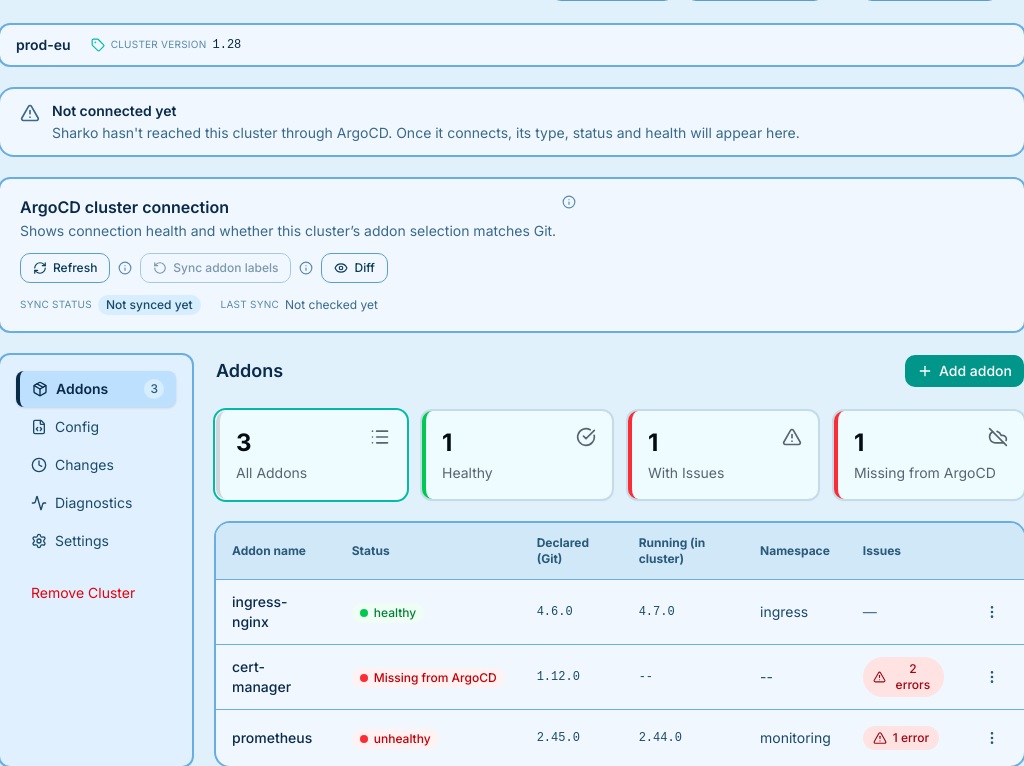
it: ClusterDetail › LW-20: issues appear in popover when clicking the error chip
(page scrolled)
Expected: the link "cert-manager" is shown, x1=232 y1=658 x2=291 y2=695
Click the chip to open the popover
Click the button "2 errors": (903, 677) x1=863 y1=657 x2=944 y2=697
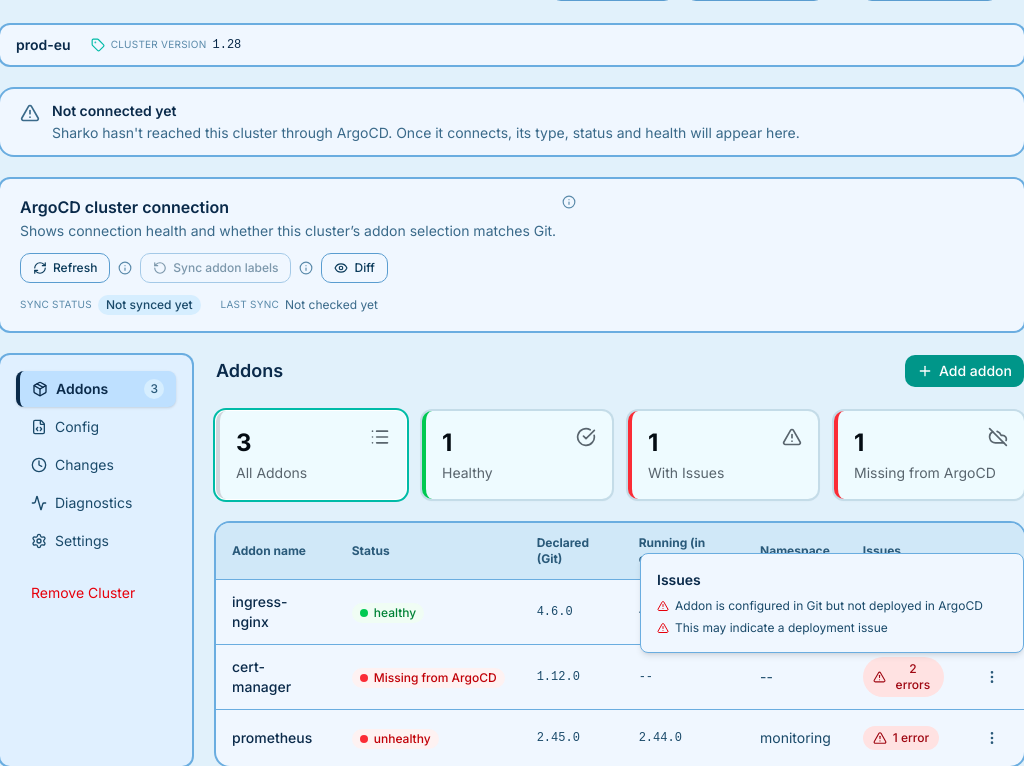
Now the text "Addon is configured in Git but not deployed in ArgoCD" is shown, box x1=675 y1=598 x2=983 y2=614
Now the text "This may indicate a deployment issue" is shown, box x1=675 y1=620 x2=888 y2=636
